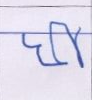i_matra: (52, 21, 86, 67)
